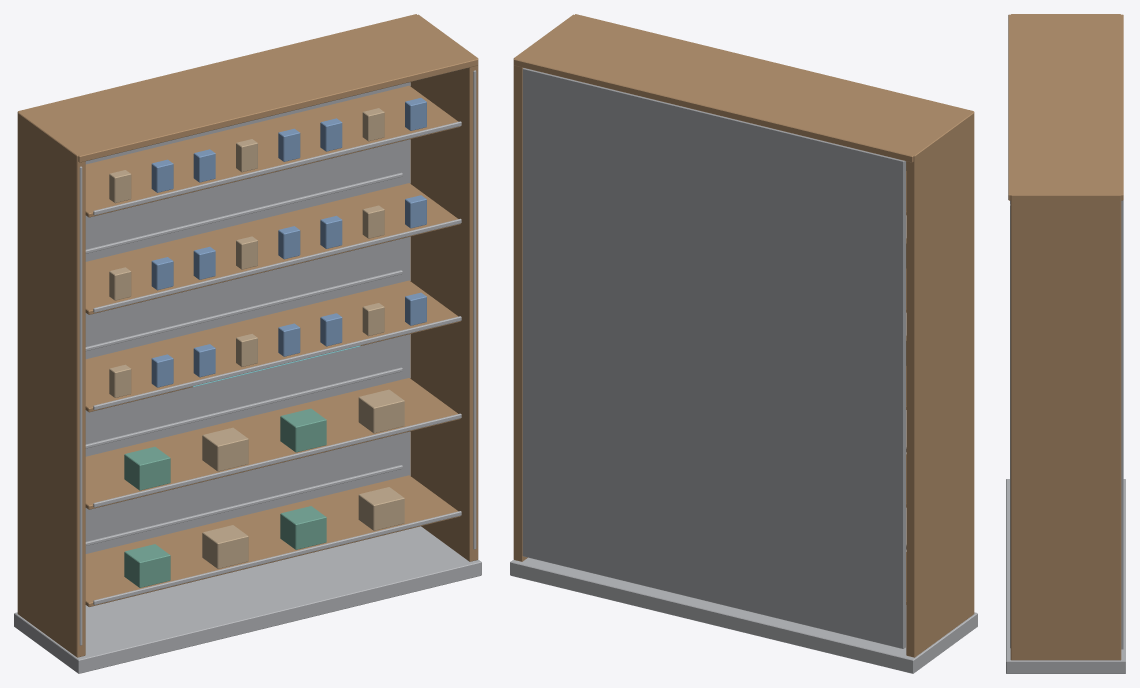
File: prop_sealed_wall_01.glb
The picture shows the model from 3 angles, left to right: view 1: azimuth 30°, elevation 25°; view 2: azimuth 150°, elevation 25°; view 3: azimuth 270°, elevation 25°; orthographic projection. The views are drawn at different scales.
Visible parts, largest first — view 1: prop_sealed_wall_01; view 2: prop_sealed_wall_01; view 3: prop_sealed_wall_01.
Part boxes in pixels (<box>): prop_sealed_wall_01: <box>14,14,481,673</box>; prop_sealed_wall_01: <box>510,14,977,673</box>; prop_sealed_wall_01: <box>1006,14,1125,673</box>.
Bounding box in the file's own units: 1.8 × 2.2 × 0.5.
